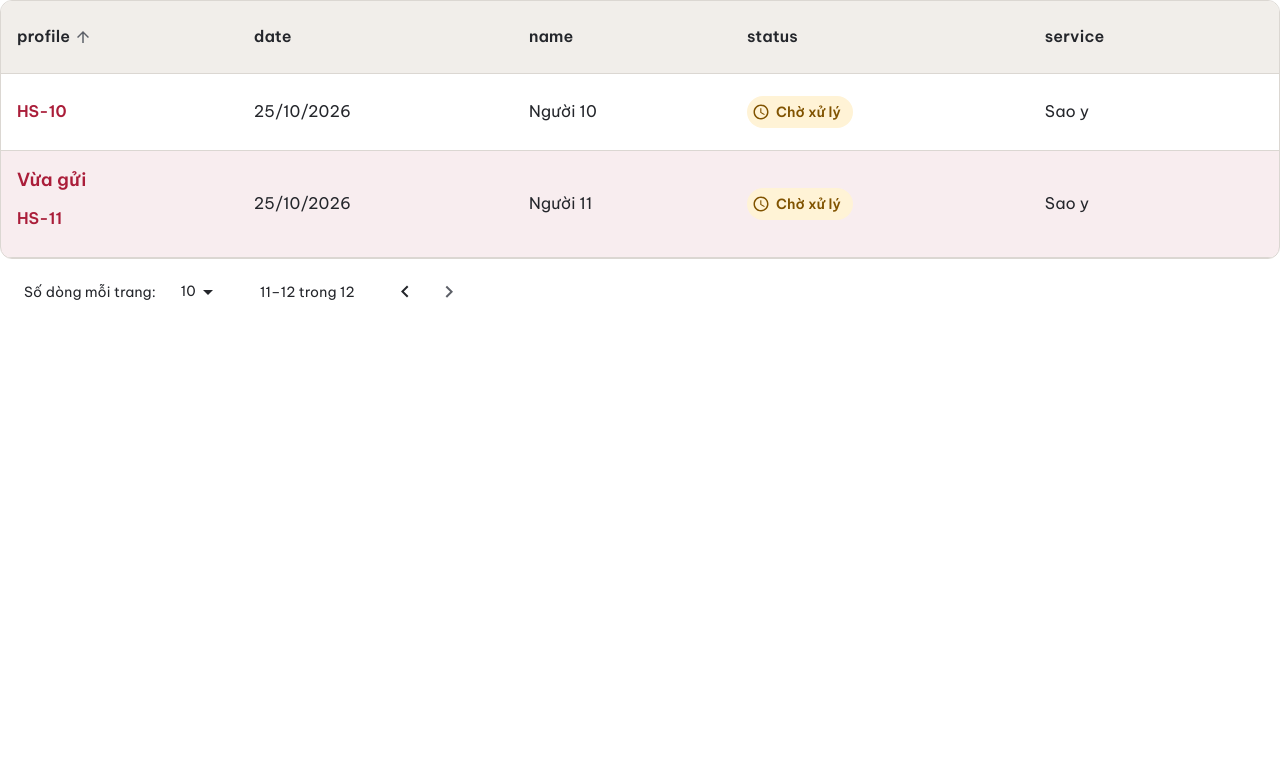
Test case: a newly submitted ID is revealed once without changing the sort order (false)
Expected: the button "HS-11" is shown, [17,195,81,243]
Expected: the text "Vừa gửi" is shown, [17,168,86,191]
Click the button named "Trang trước".
click(405, 292)  # box [383,270,427,314]
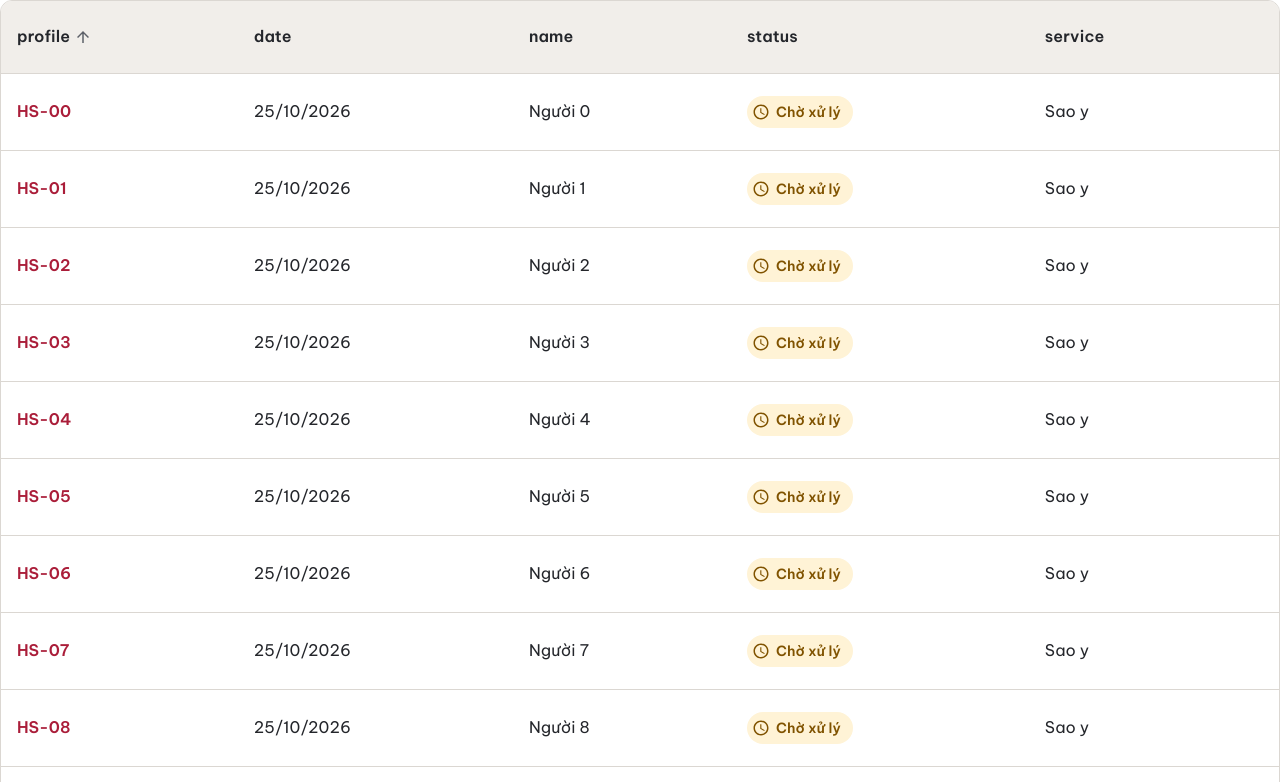
Expected: the button "HS-00" is shown, [17,88,81,136]
Expected: the button "HS-11" is gone
